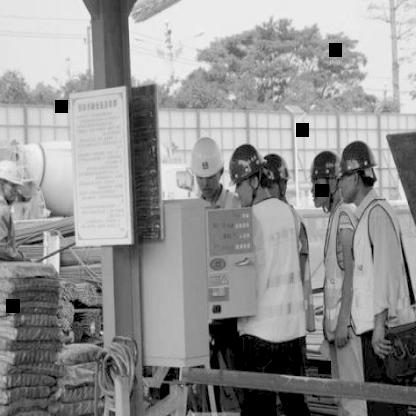helmet: (336, 136, 380, 206), (306, 146, 343, 212), (230, 142, 268, 204), (190, 136, 228, 197), (261, 150, 293, 204), (0, 158, 24, 204)
